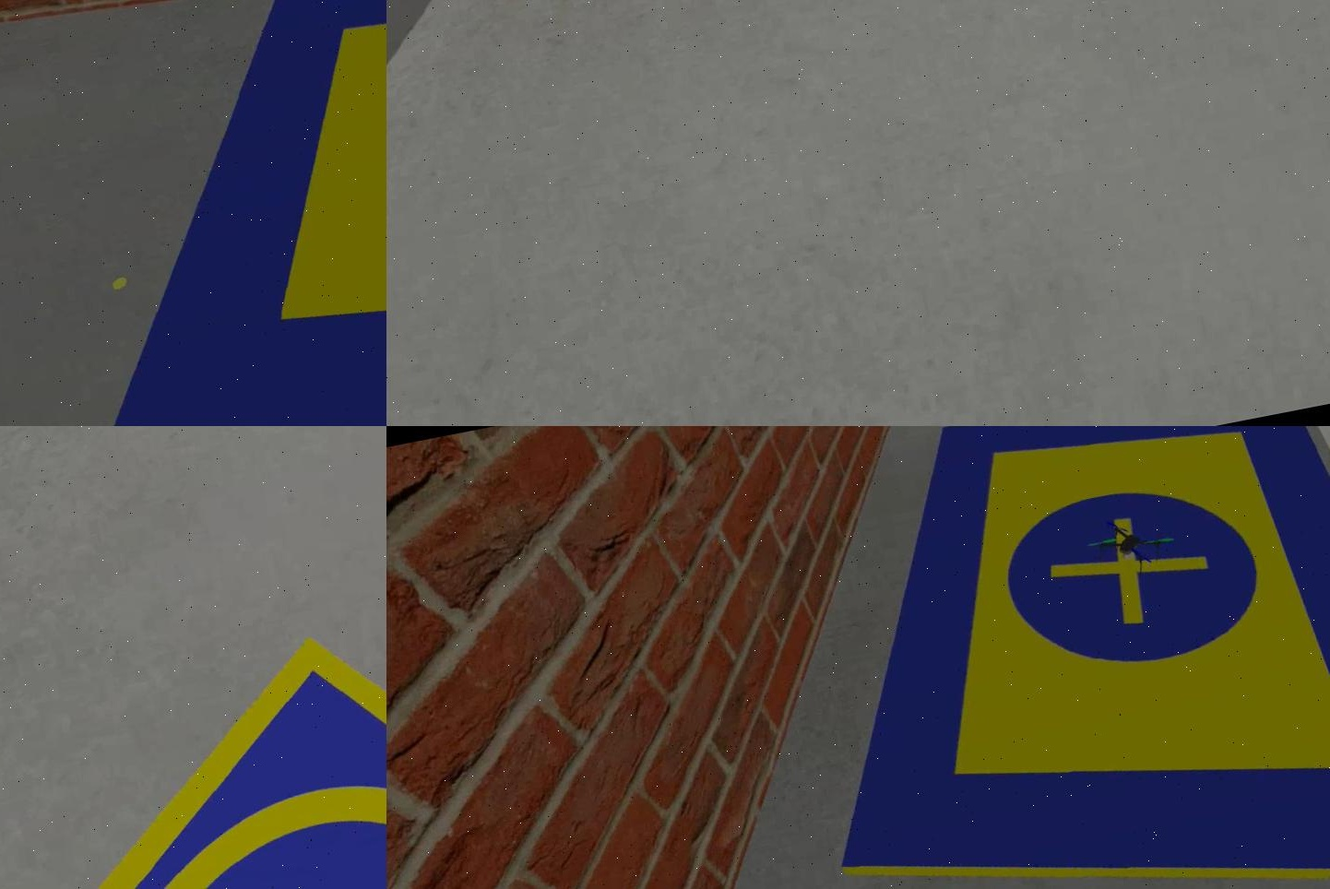large_base: (762, 426, 1328, 889), (19, 1, 385, 426)
small_base: (0, 579, 385, 889)
